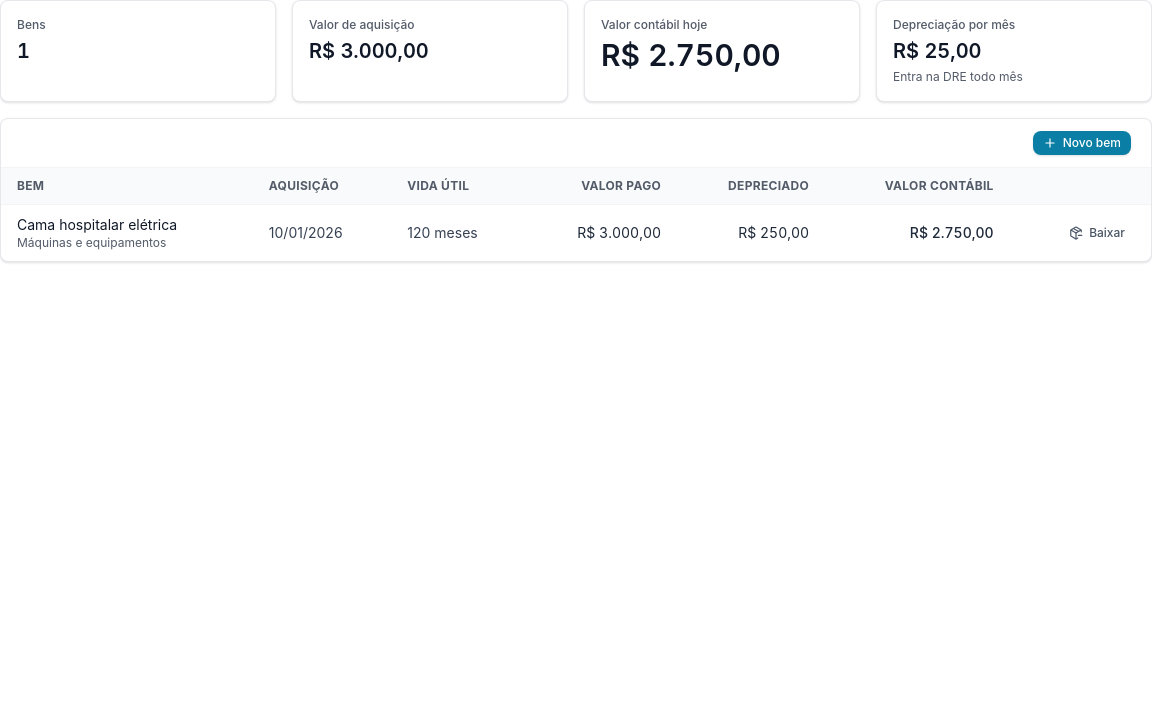
Test: Capital › Patrimônio › a API recusar o cadastro: avisa o motivo e a janela continua aberta
The width and height of the screenshot is (1152, 720).
Expected: the text "Cama hospitalar elétrica" is shown, [17, 216, 177, 233]
Click the button "Novo bem" at (1082, 143), box [1033, 131, 1131, 155]
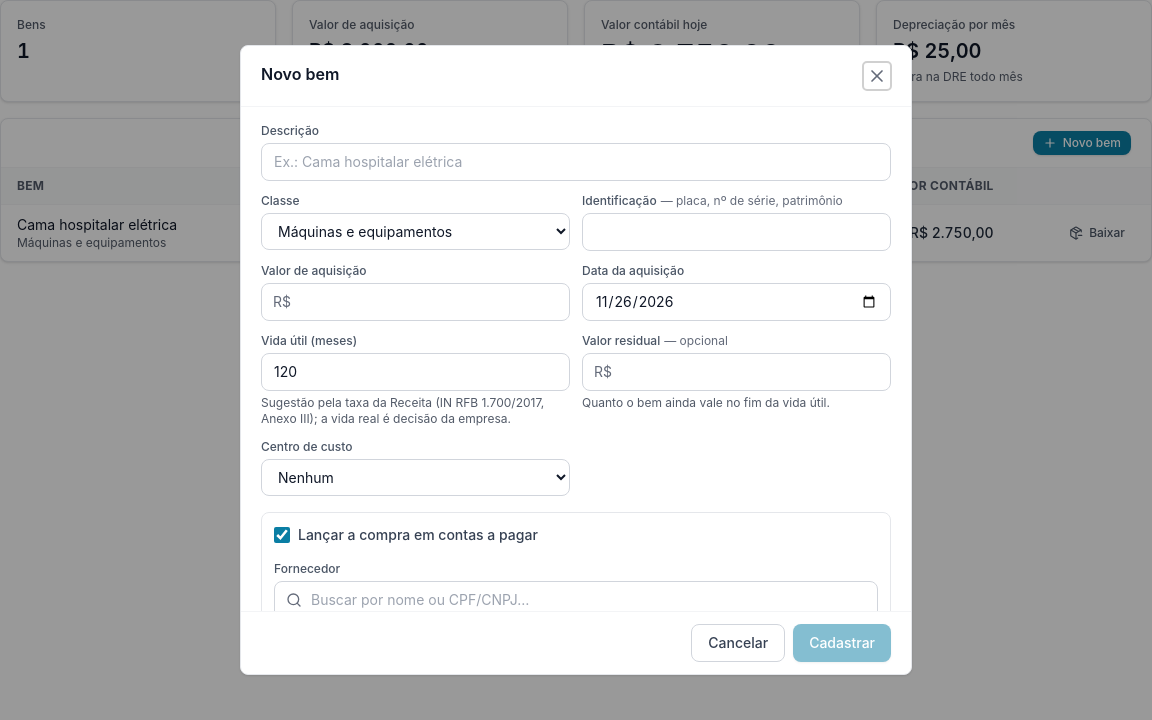
Type "Desfibrilador" into the field labelled "Descrição" at (576, 162), box [261, 143, 891, 181]
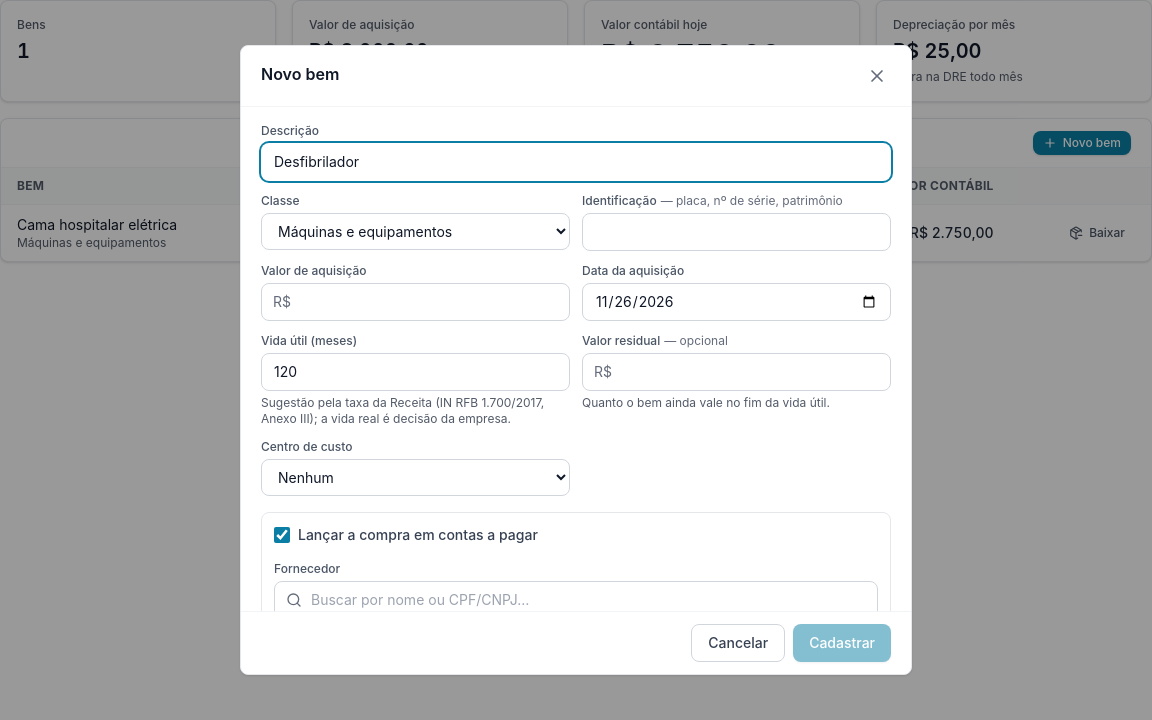
Type "4500" into the field labelled "Valor de aquisição" at (416, 302), box [261, 283, 570, 321]
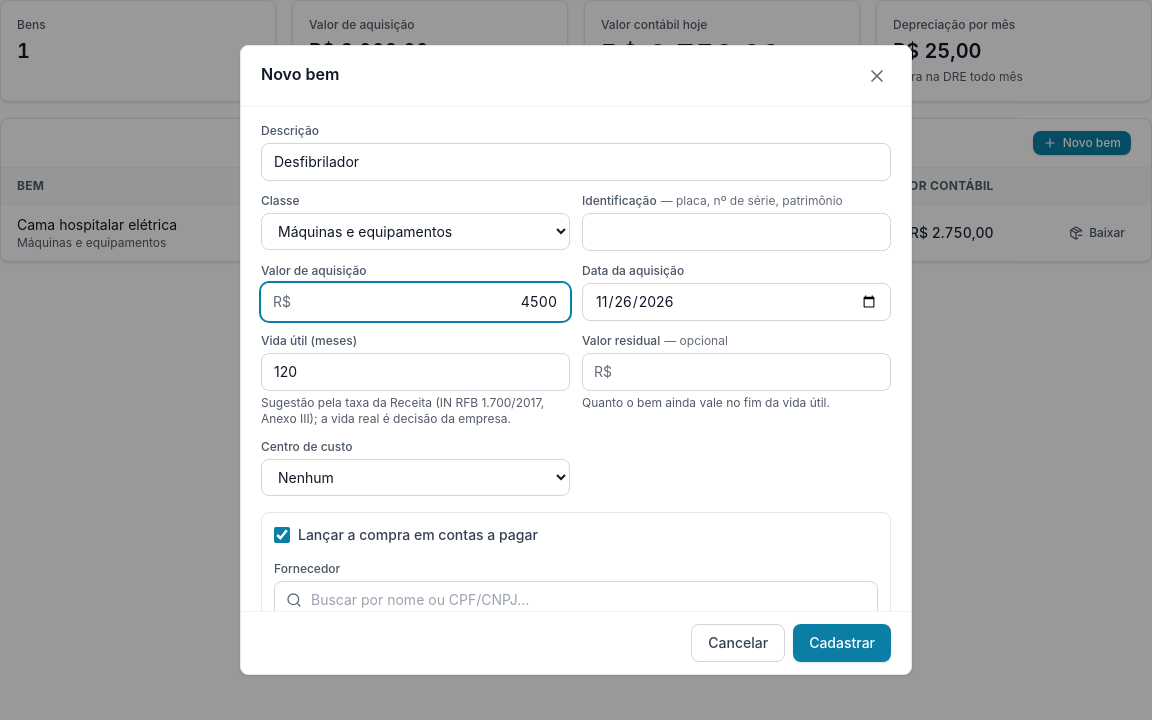
Click the button "Cadastrar" at (842, 643), box [793, 624, 891, 662]
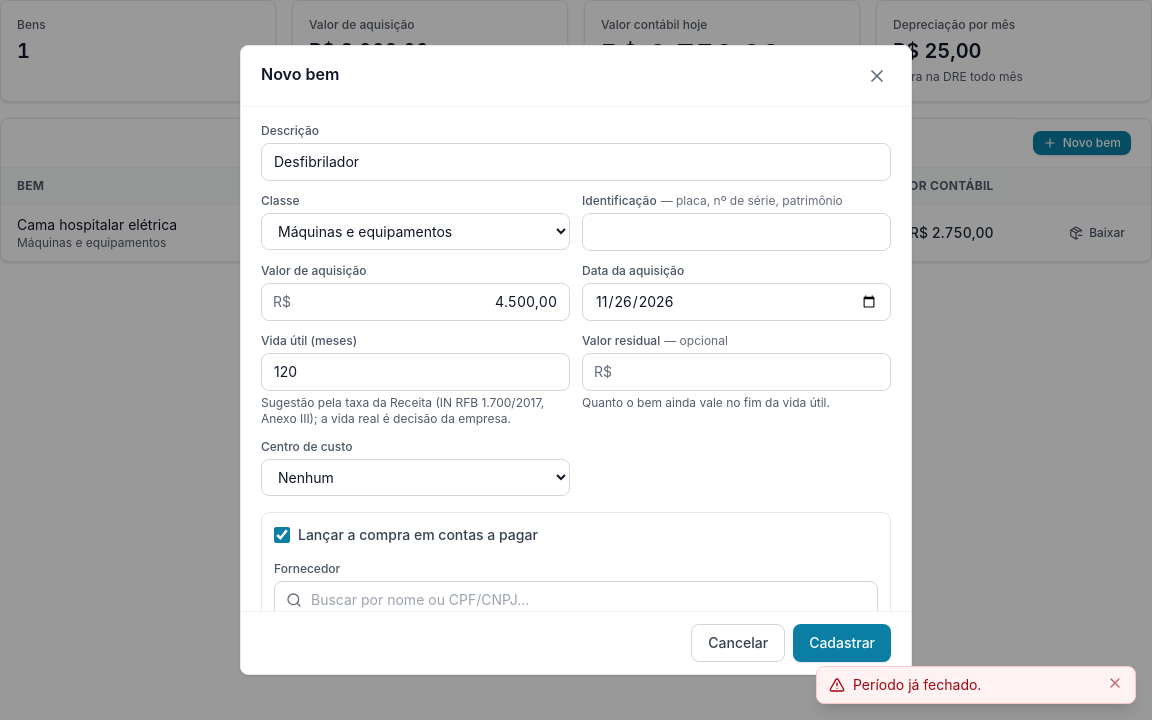
Result: the dialog is shown at [240, 45, 912, 675]
Result: the message reads "Período já fechado." at [853, 676, 981, 693]
